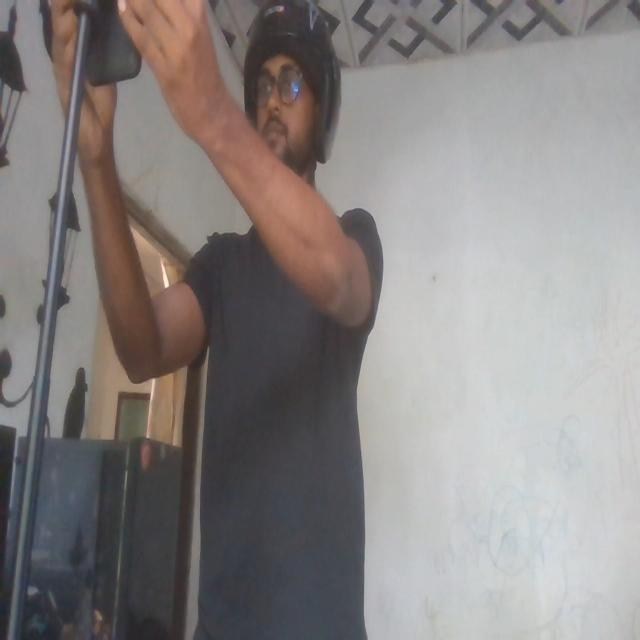Helmet_Wearer: (226, 0, 340, 208)
Person: (100, 0, 392, 640)
